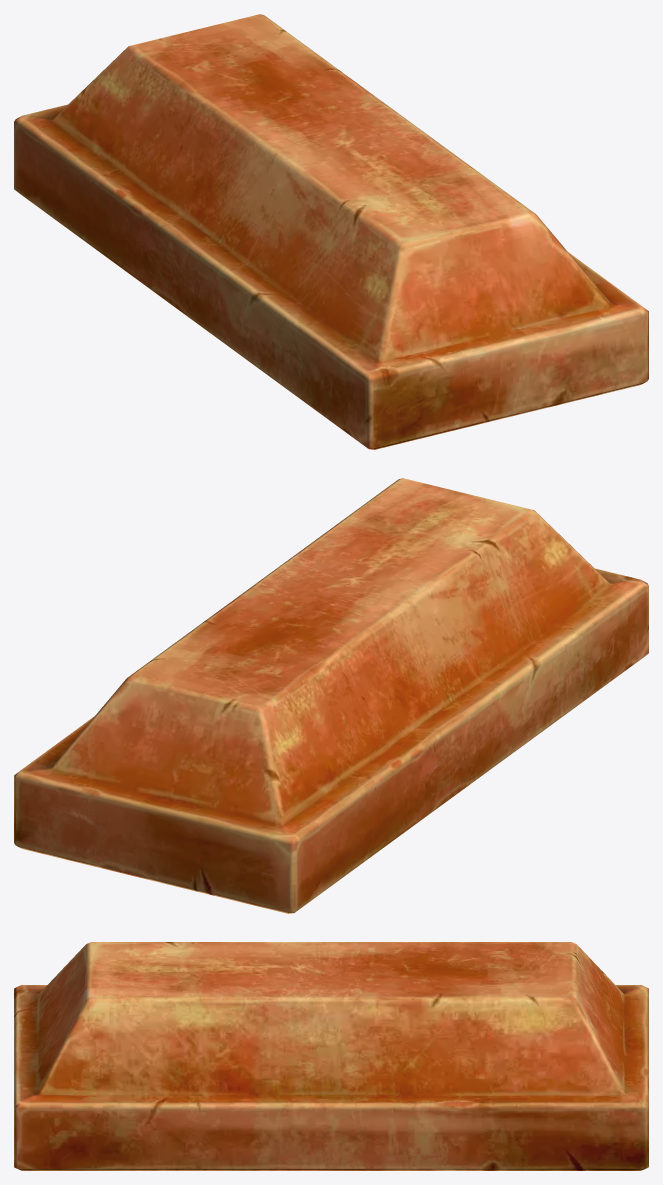
3 renders of one model, top to bottom at view 1: azimuth 30°, elevation 25°; view 2: azimuth 150°, elevation 25°; view 3: azimuth 270°, elevation 25°, orthographic. The views are drawn at different scales.
Parts seen in each view (by area): view 1: SM_Ingot_Copper_01_LOD0; view 2: SM_Ingot_Copper_01_LOD0; view 3: SM_Ingot_Copper_01_LOD0.
Part boxes in pixels (bbox=[...]): SM_Ingot_Copper_01_LOD0: bbox=[14, 14, 648, 449]; SM_Ingot_Copper_01_LOD0: bbox=[14, 478, 648, 913]; SM_Ingot_Copper_01_LOD0: bbox=[14, 942, 648, 1170].
Size of the model in its own units: 0.2445 by 0.1322 by 0.5369.
Materials: 1 (1 with a texture image).
